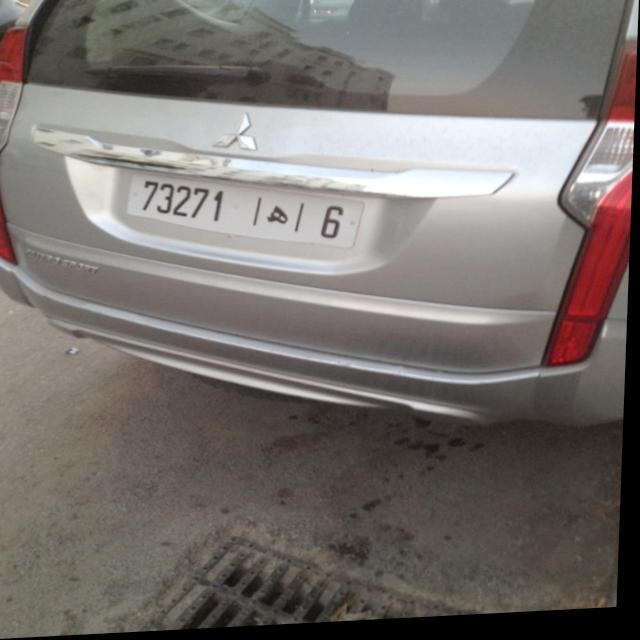License-Plate: (129, 175, 365, 252)
